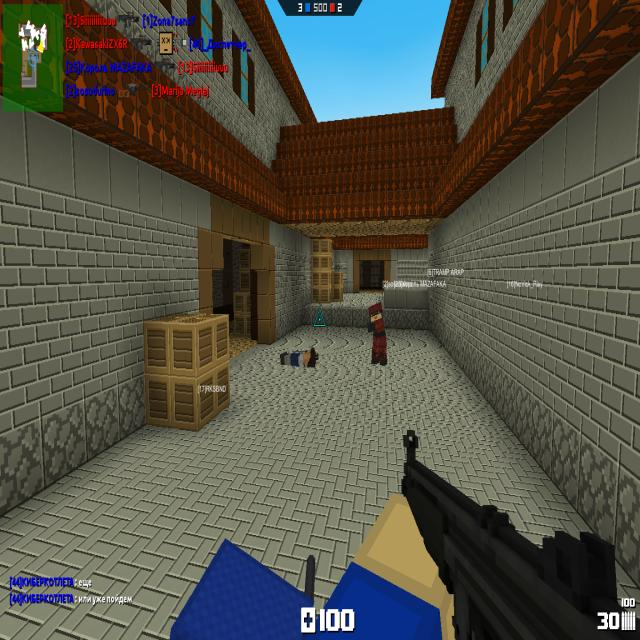enemy: (367, 302, 387, 366)
